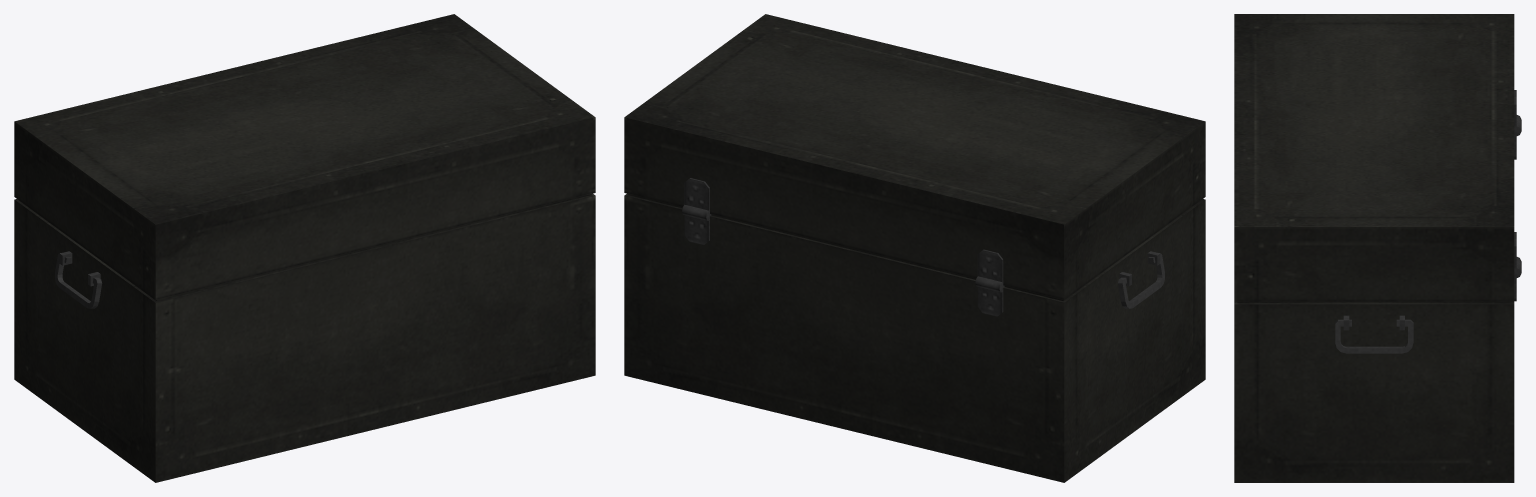
File: wooden_crate_2_b.obj
3 renders of one model, left to right at view 1: azimuth 30°, elevation 25°; view 2: azimuth 150°, elevation 25°; view 3: azimuth 270°, elevation 25°, orthographic.
Visible parts, largest first — view 1: wooden_crate_2_b, wooden_crate_2_b_lid; view 2: wooden_crate_2_b, wooden_crate_2_b_lid; view 3: wooden_crate_2_b_lid, wooden_crate_2_b.
Boxes of the visible parts, <box> form: wooden_crate_2_b: <box>14,193,595,482</box>; wooden_crate_2_b_lid: <box>14,14,595,300</box>; wooden_crate_2_b: <box>624,193,1205,482</box>; wooden_crate_2_b_lid: <box>624,14,1205,300</box>; wooden_crate_2_b_lid: <box>1234,14,1516,303</box>; wooden_crate_2_b: <box>1234,115,1521,482</box>.
Size of the model in its own units: 0.9492 by 0.505 by 0.513.
